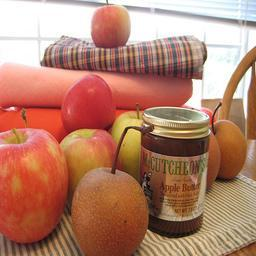apple: (1, 129, 70, 244), (59, 128, 121, 202), (90, 3, 132, 49)
